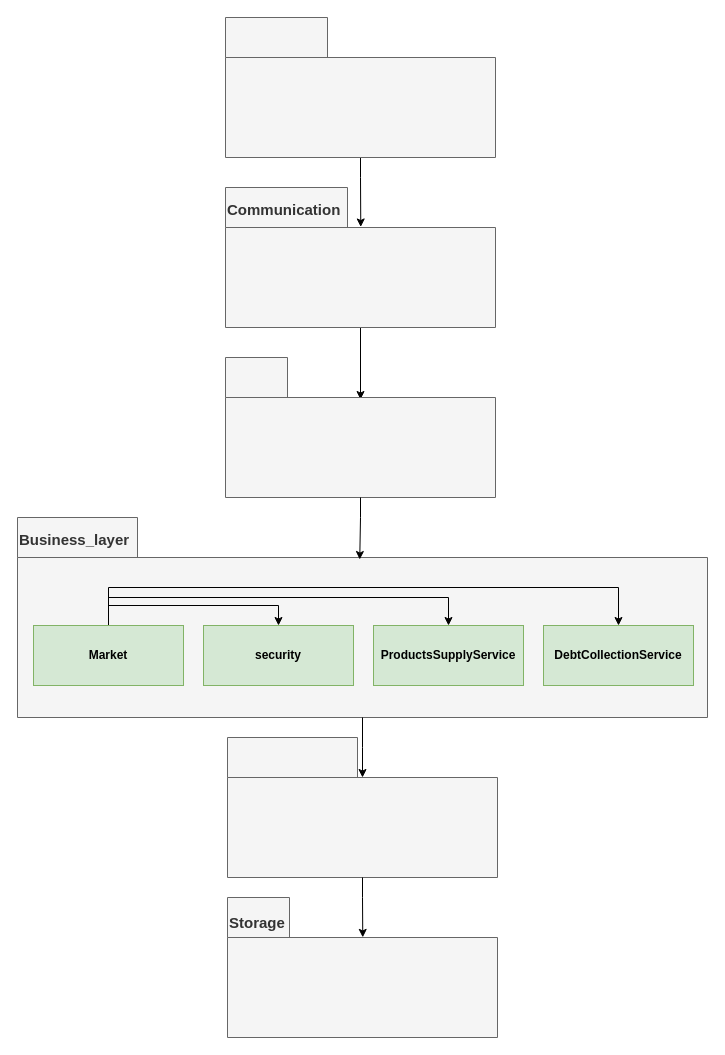
Some shapes in this 725 by 1055 pixel diagram are drawn without their labels. The centre of each missing label's shape, as x and y in pixels:
"DataAccesslayer" goes at point (362, 807).
"Presentation" goes at point (360, 87).
"Service" goes at point (360, 427).
